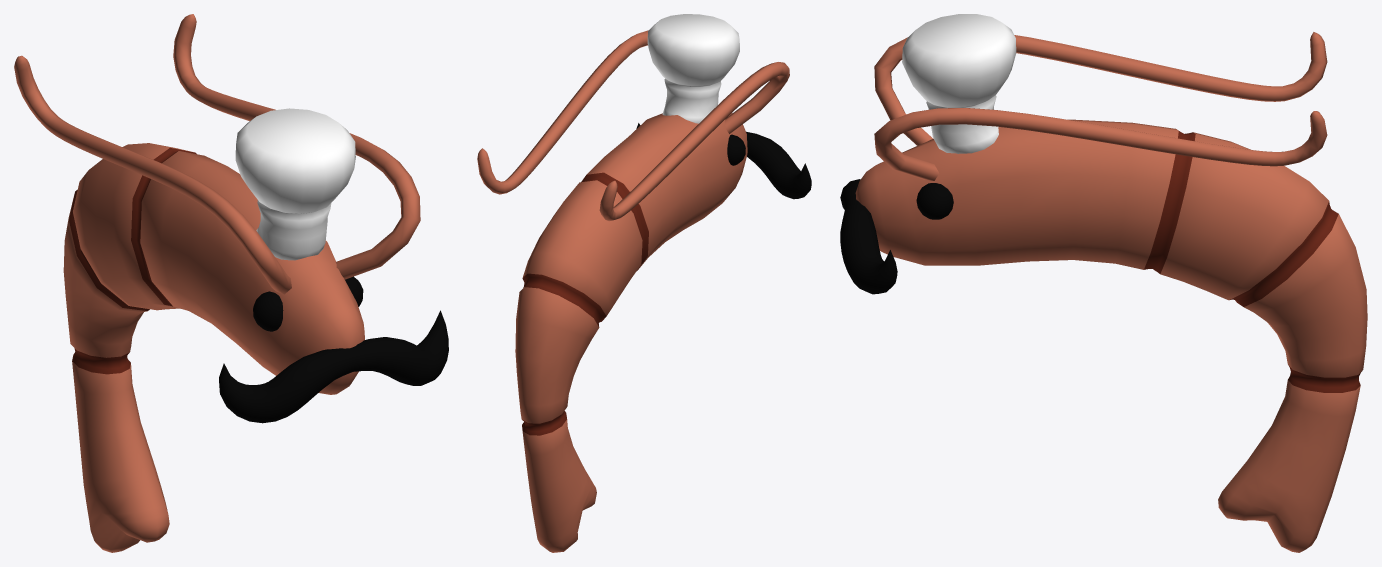
The model's file is ASFTR_ShrimpChef.fbx.
The picture shows the model from 3 angles, left to right: view 1: azimuth 30°, elevation 25°; view 2: azimuth 150°, elevation 25°; view 3: azimuth 270°, elevation 25°; orthographic projection. The views are drawn at different scales.
Parts seen in each view (by area): view 1: ASFTR_ShimpChef; view 2: ASFTR_ShimpChef; view 3: ASFTR_ShimpChef.
Boxes of the visible parts, x1,y1,x2,y2 form: ASFTR_ShimpChef: (14, 14, 448, 552); ASFTR_ShimpChef: (477, 14, 811, 552); ASFTR_ShimpChef: (840, 14, 1367, 552).
Bounding box in the file's own units: 74.99 × 176 × 161.
